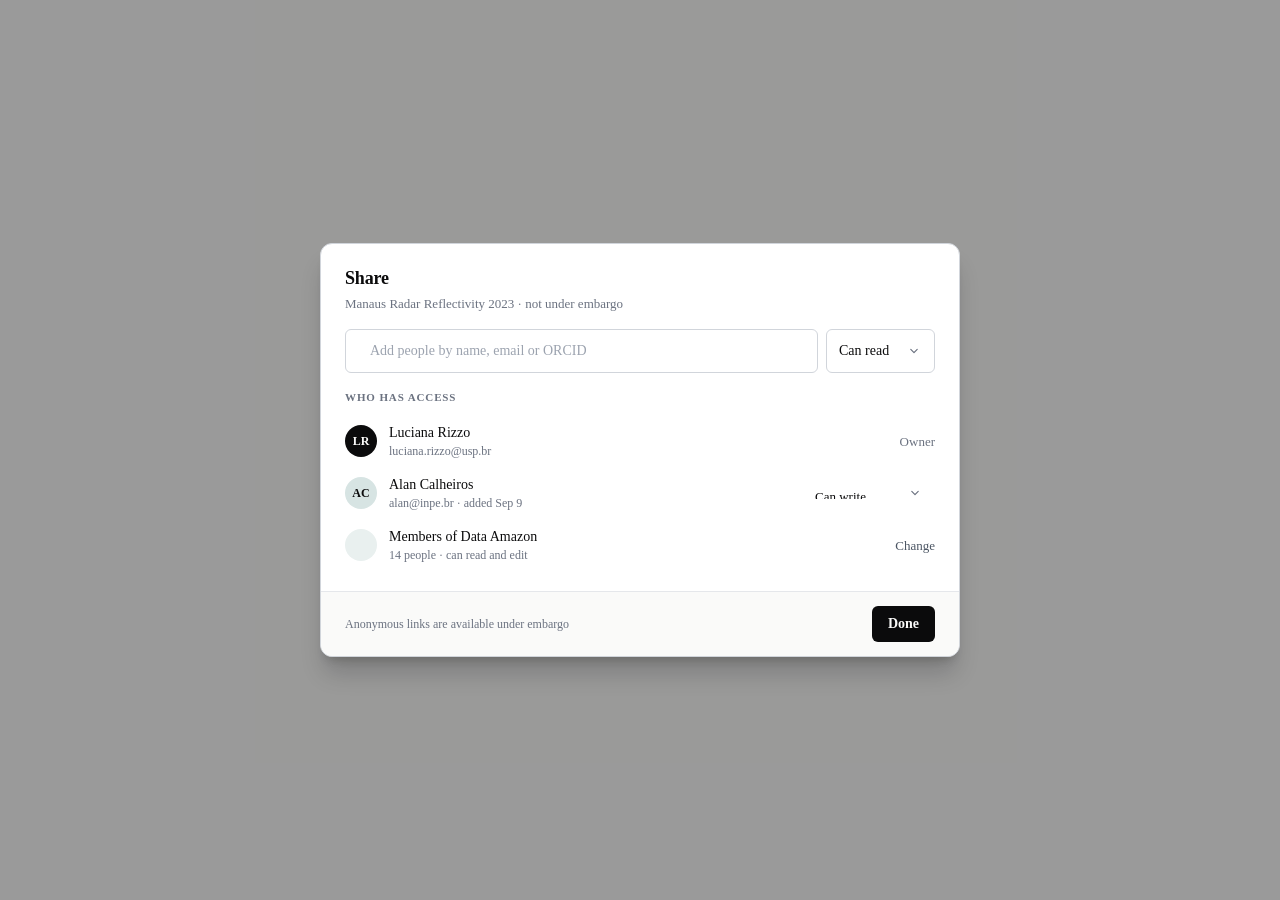
Scenario: ShareDialog › without an embargo the owner changes what members can do
The width and height of the screenshot is (1280, 900).
Expected: the text "14 people · can read and edit" is shown, 389,548 -> 528,562
Click the button with aria-label "Change what members of Data Amazon can do". click: {"x": 915, "y": 545}
box: 895,536 -> 935,555
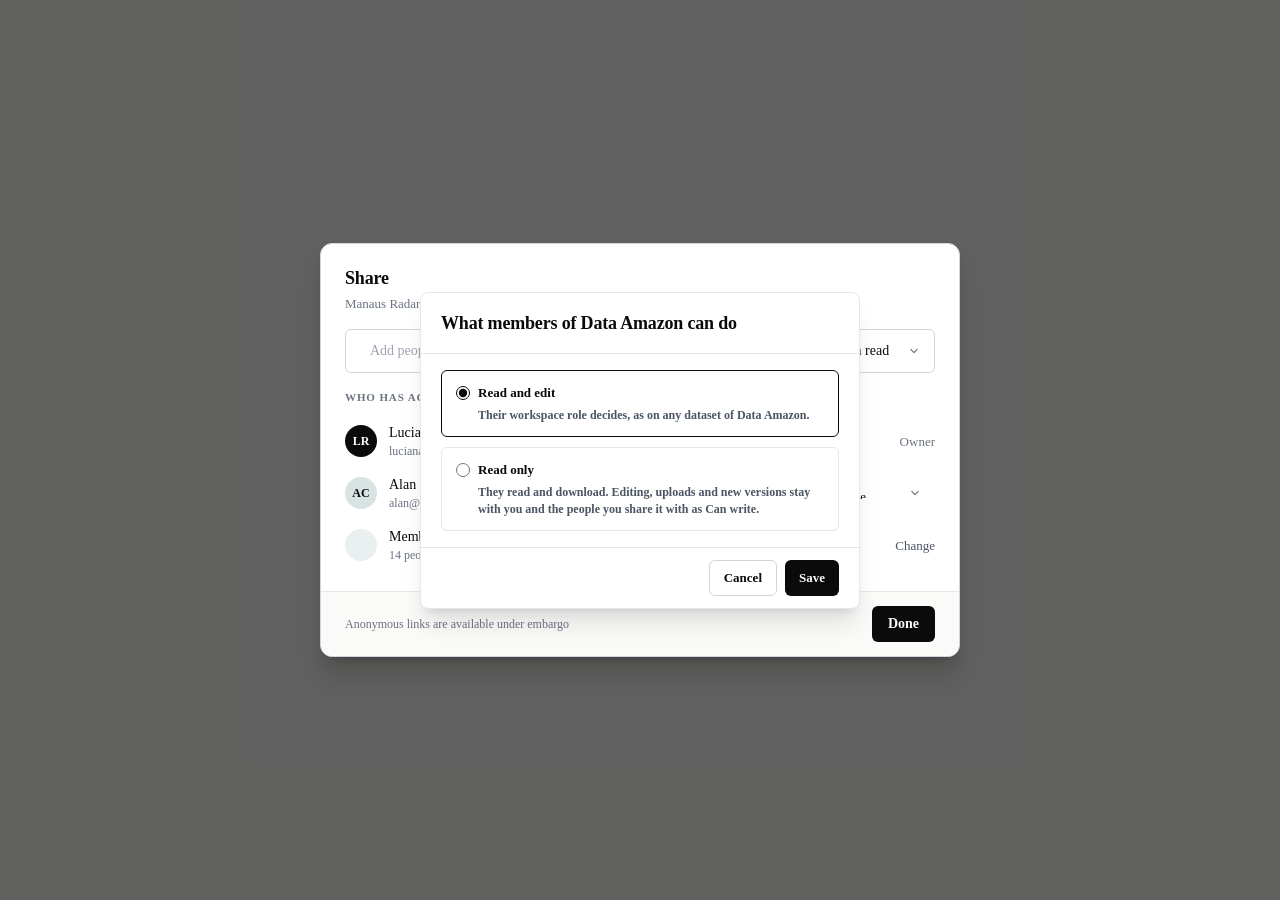
Click the radio button labelled "Read only". click: {"x": 463, "y": 470}
box: 456,462 -> 470,476
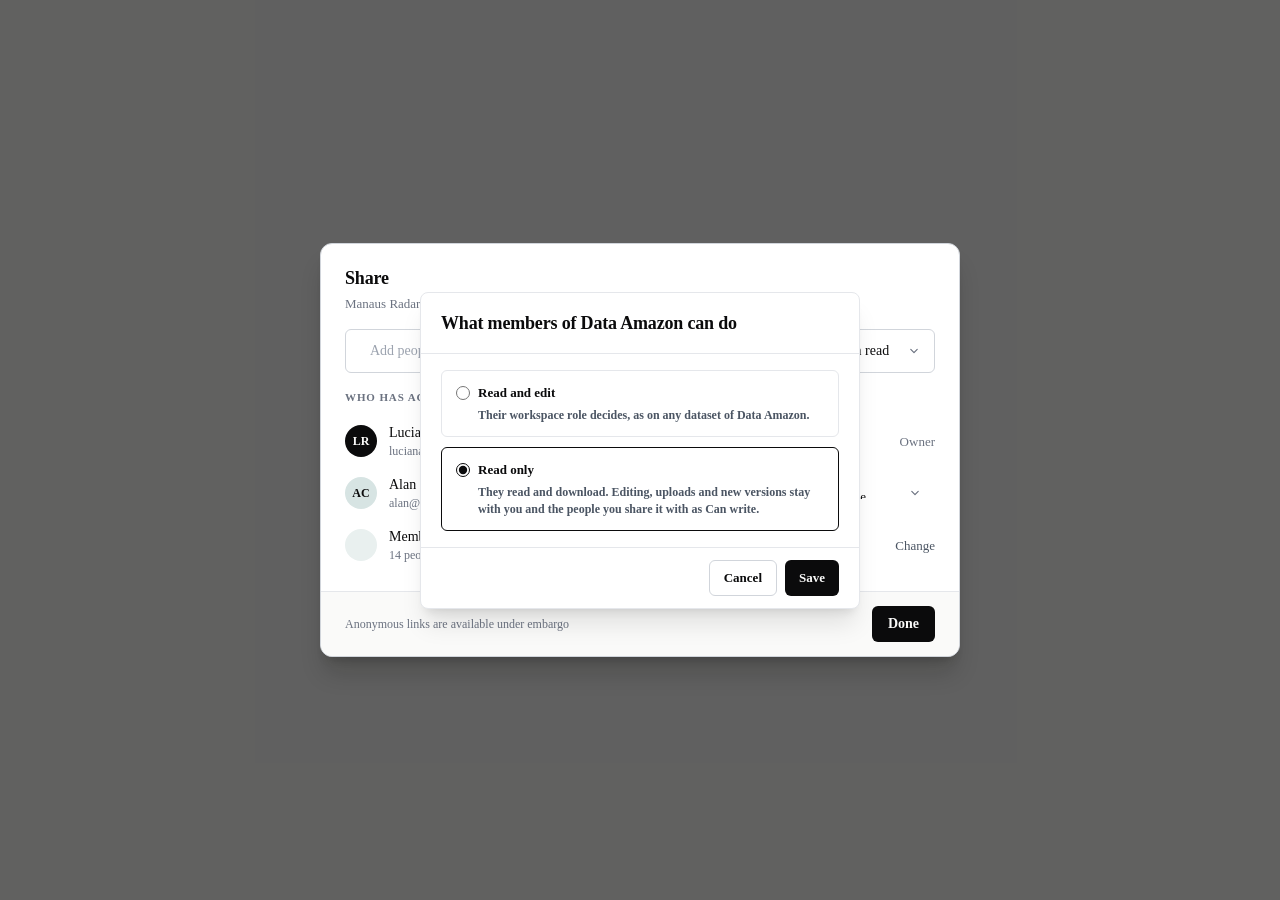
Click the button "Save". click: {"x": 812, "y": 578}
box: 785,560 -> 839,596
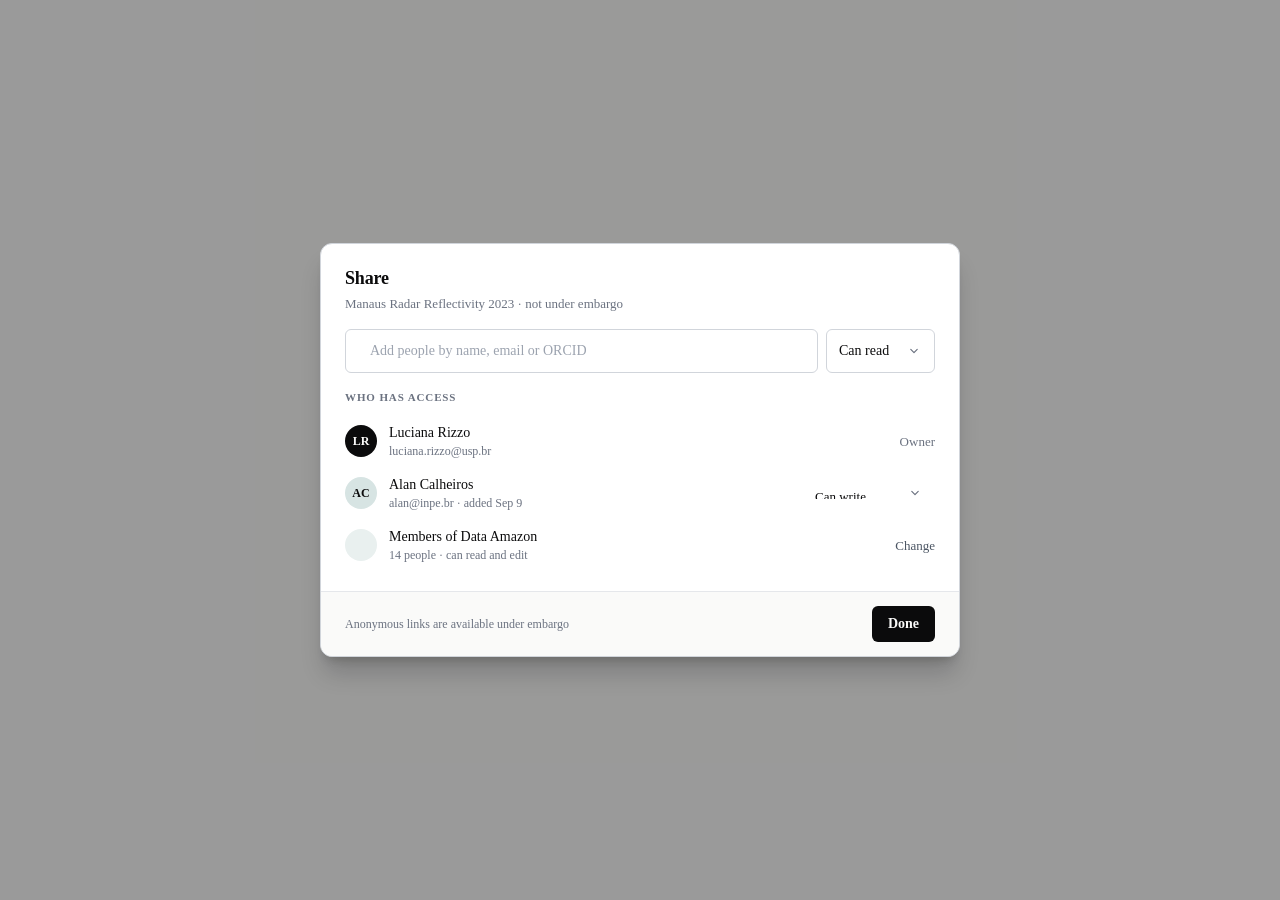
Expected: the dialog "Share" is shown, 320,243 -> 960,657
Expected: the heading "What members of Data Amazon can do" is gone
